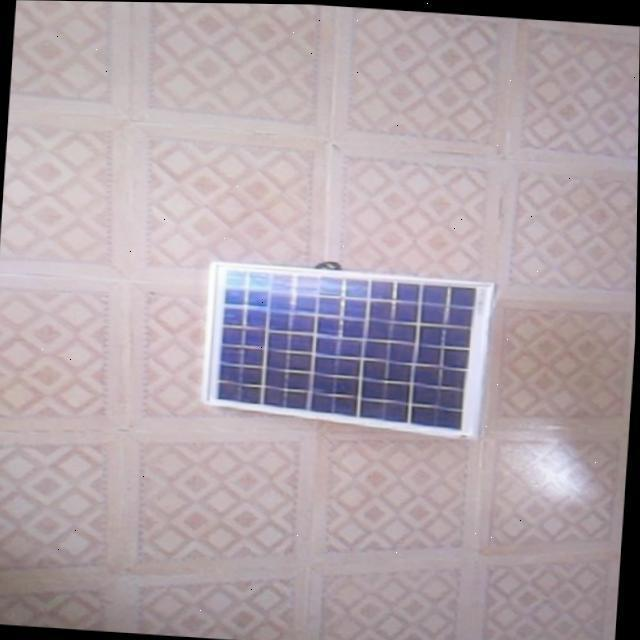Normal Solar Panel: (202, 260, 494, 436)
